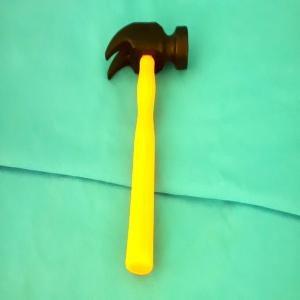martelo: (104, 21, 189, 276)
